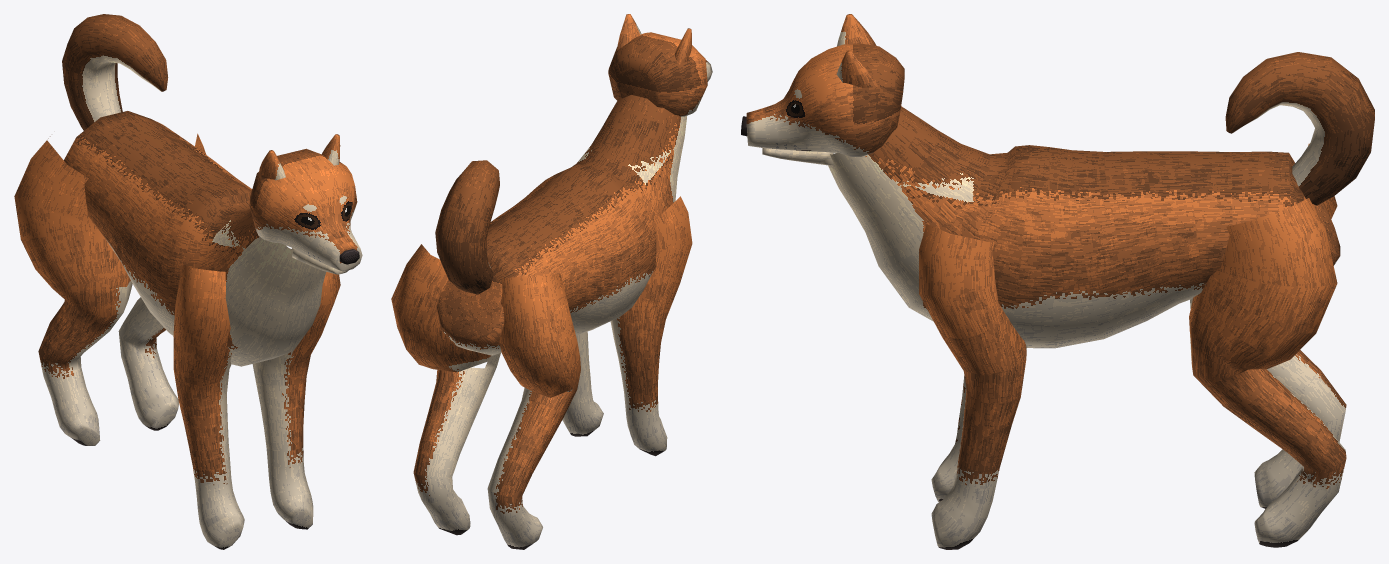
File: dog_pochi.glb
The picture shows the model from 3 angles, left to right: view 1: azimuth 30°, elevation 25°; view 2: azimuth 150°, elevation 25°; view 3: azimuth 270°, elevation 25°; orthographic projection. The views are drawn at different scales.
Parts seen in each view (by area): view 1: dog_pochi; view 2: dog_pochi; view 3: dog_pochi.
Boxes of the visible parts, x1=… form: dog_pochi: x1=14, y1=14, x2=362, y2=549; dog_pochi: x1=391, y1=14, x2=712, y2=549; dog_pochi: x1=741, y1=14, x2=1374, y2=549.
Size of the model in its own units: 0.2465 by 0.5454 by 0.6336.
1 material, 1 textured.
